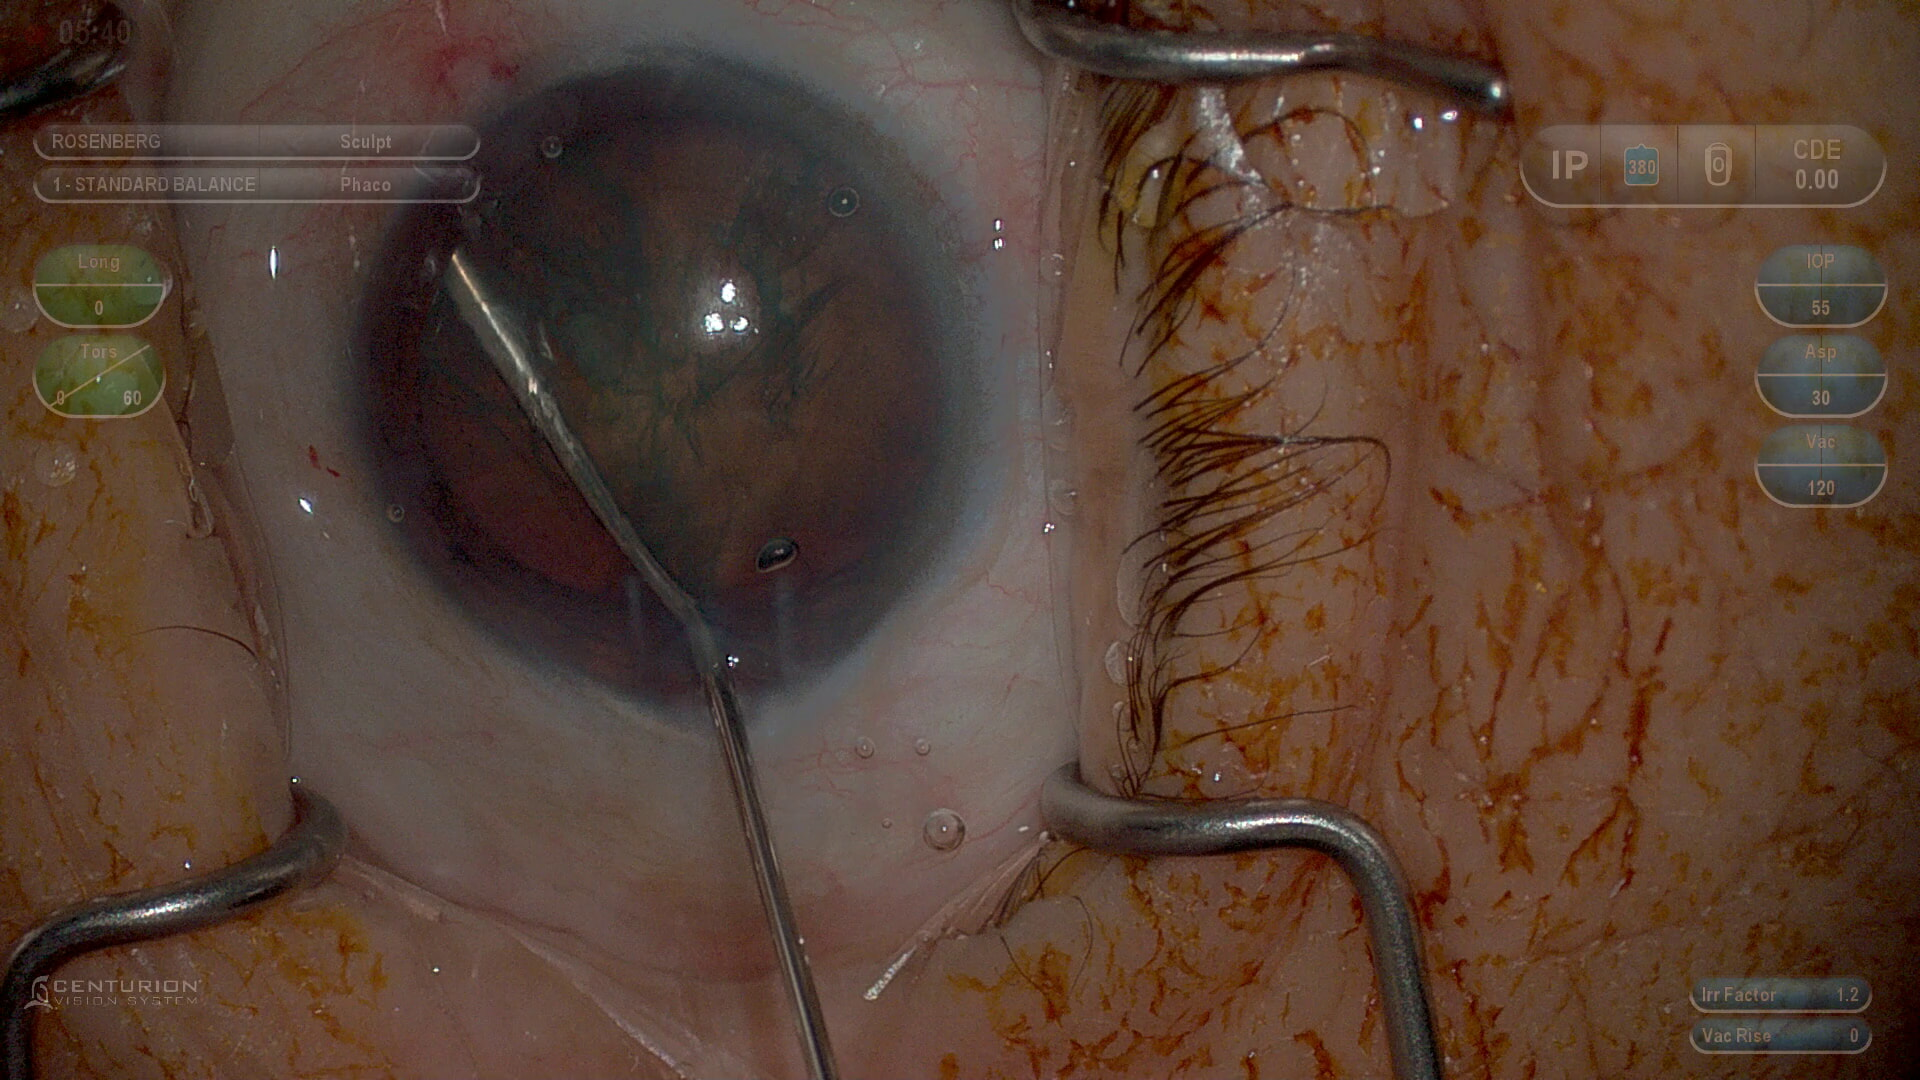iris: (350, 56, 983, 697)
pupil: (413, 112, 942, 595)
